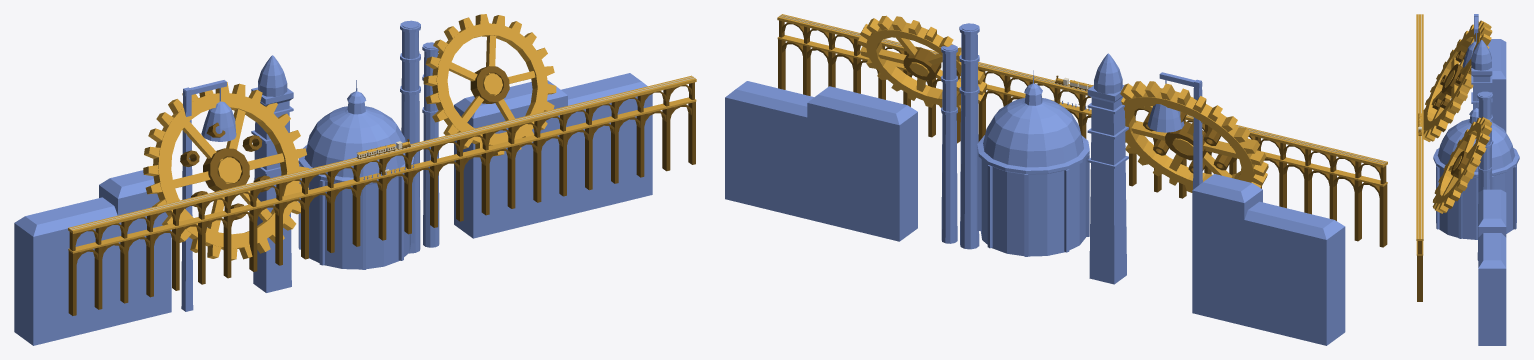
The model's file is distant_engine.glb.
3 views of the same model, side by side, from view 1: azimuth 30°, elevation 25°; view 2: azimuth 150°, elevation 25°; view 3: azimuth 270°, elevation 25° (orthographic). The views are drawn at different scales.
Parts seen in each view (by area): view 1: distant_engine_body, distant_engine_gear_a, distant_engine_gear_b; view 2: distant_engine_body, distant_engine_gear_a, distant_engine_gear_b; view 3: distant_engine_body, distant_engine_gear_a, distant_engine_gear_b.
Part boxes in pixels (left/top/right/bottom): distant_engine_body: left=14, top=20, right=696, bottom=345; distant_engine_gear_a: left=143, top=82, right=309, bottom=260; distant_engine_gear_b: left=423, top=14, right=556, bottom=156; distant_engine_body: left=725, top=14, right=1387, bottom=345; distant_engine_gear_a: left=1120, top=81, right=1268, bottom=192; distant_engine_gear_b: left=858, top=15, right=986, bottom=111; distant_engine_body: left=1416, top=14, right=1519, bottom=345; distant_engine_gear_a: left=1423, top=20, right=1492, bottom=141; distant_engine_gear_b: left=1432, top=117, right=1491, bottom=213.
Bounding box in the file's own units: 30.2 × 10.65 × 5.86.
